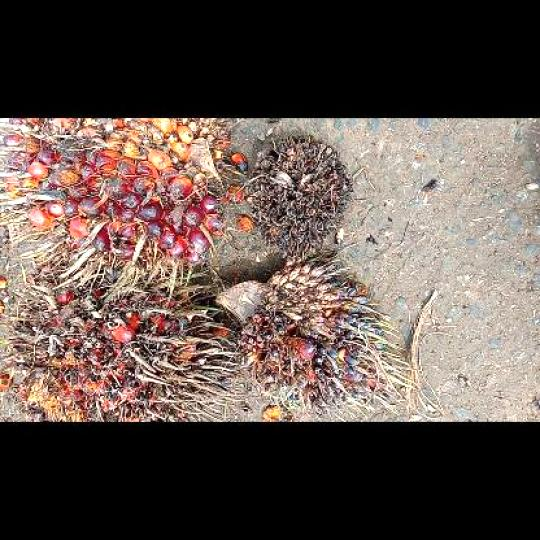masak: (0, 119, 228, 262)
terlalu masak: (7, 265, 232, 420)
